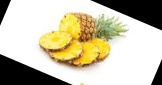Pineapple: (57, 9, 130, 41)
